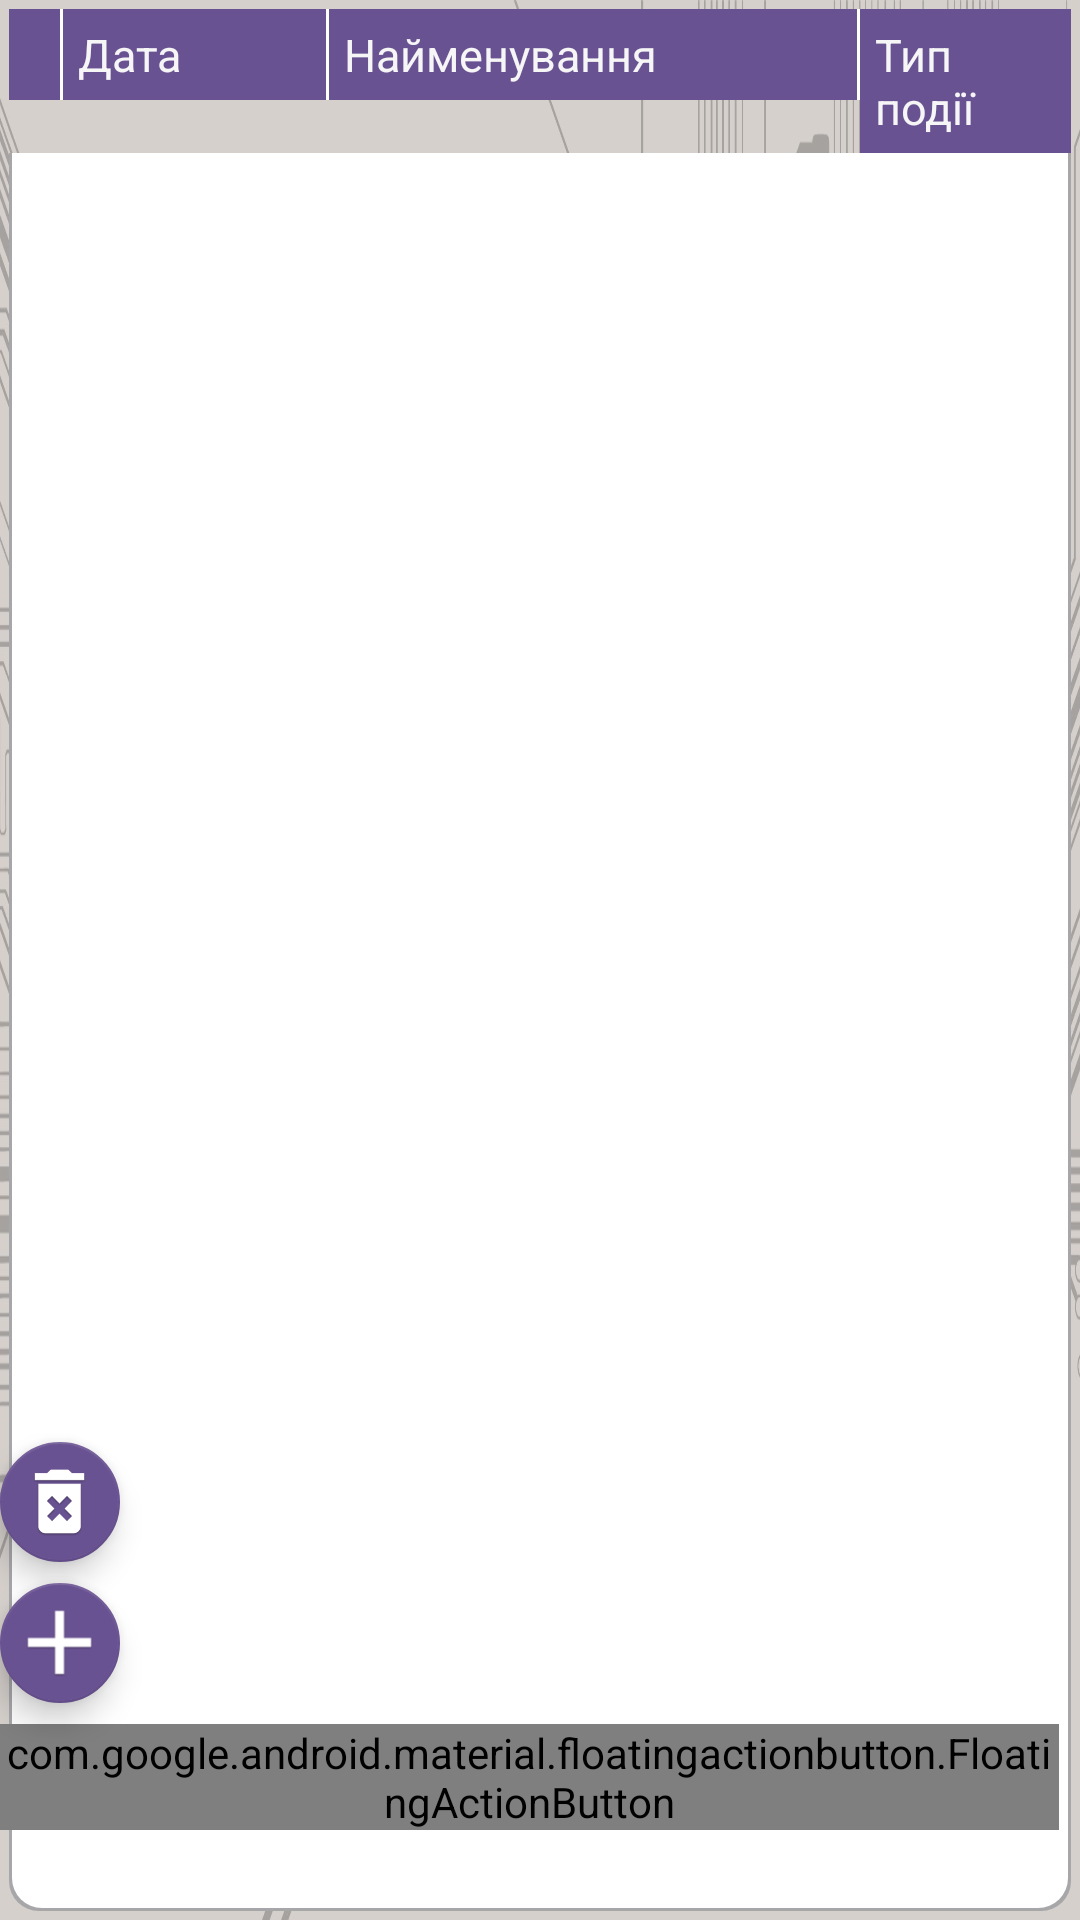

Icons on this 1080 x 1920 Android screen, each with the point to tap as [x,y]:
delete: [60,1502]
plus: [60,1643]
